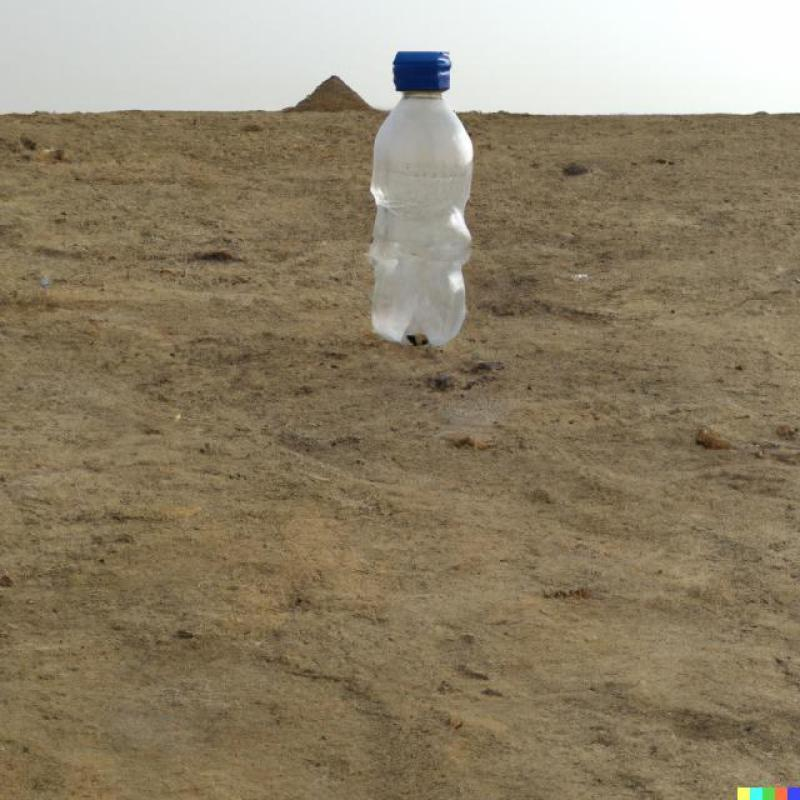botella: (362, 50, 478, 349)
